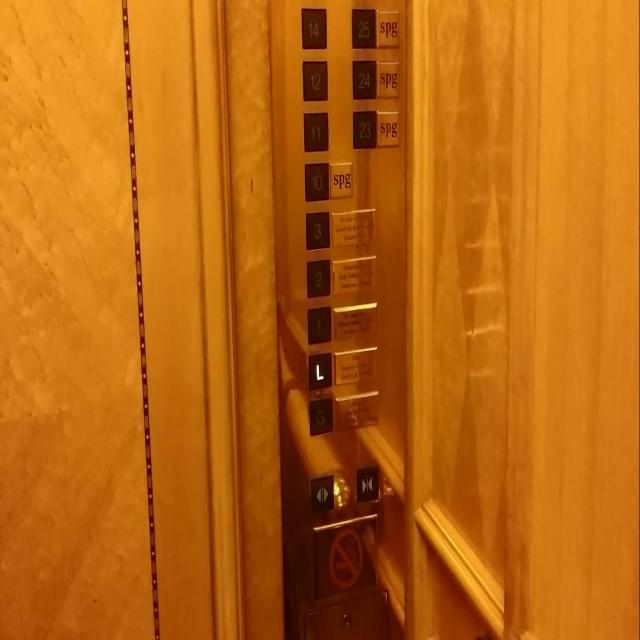1: (306, 303, 332, 345)
10: (303, 159, 329, 203)
11: (302, 109, 328, 152)
12: (300, 58, 328, 102)
14: (300, 4, 327, 51)
2: (304, 255, 330, 299)
23: (351, 109, 378, 150)
24: (351, 56, 377, 101)
25: (350, 6, 377, 49)
3: (304, 207, 330, 251)
G: (307, 394, 332, 436)
L: (306, 347, 332, 391)
close: (355, 462, 379, 504)
open: (309, 472, 334, 513)
